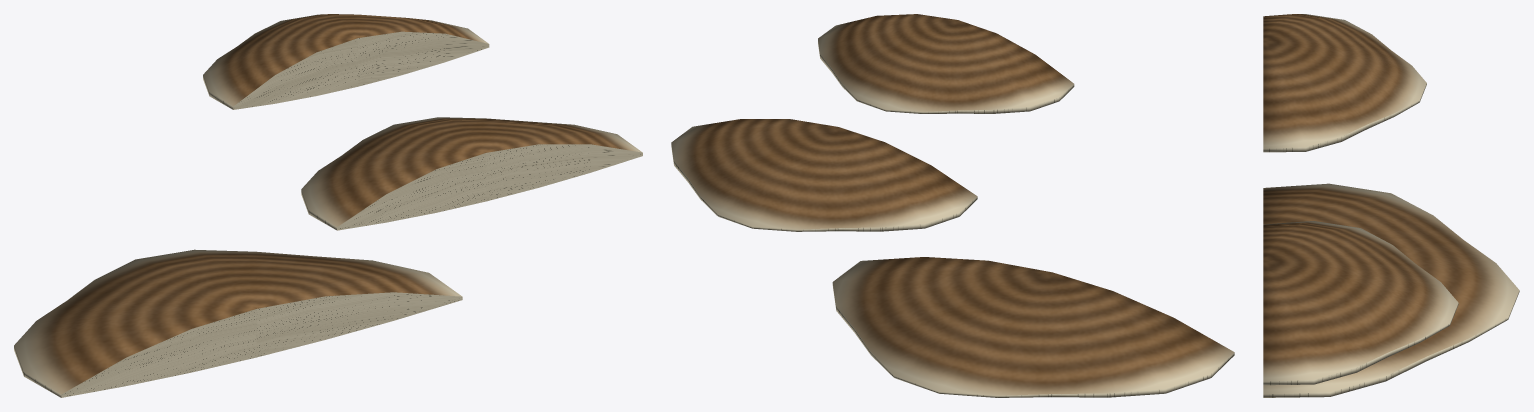
File: Deadwood_Bracket_Cluster_01_LOD2.fbx
3 renders of one model, left to right at view 1: azimuth 30°, elevation 25°; view 2: azimuth 150°, elevation 25°; view 3: azimuth 270°, elevation 25°, orthographic. The views are drawn at different scales.
Parts seen in each view (by area): view 1: Deadwood_Bracket_Cluster_01_LOD2_Mesh; view 2: Deadwood_Bracket_Cluster_01_LOD2_Mesh; view 3: Deadwood_Bracket_Cluster_01_LOD2_Mesh.
Boxes of the visible parts, x1,y1,x2,y2 form: Deadwood_Bracket_Cluster_01_LOD2_Mesh: (14, 14, 642, 397); Deadwood_Bracket_Cluster_01_LOD2_Mesh: (671, 14, 1234, 397); Deadwood_Bracket_Cluster_01_LOD2_Mesh: (1263, 14, 1519, 397).
Bounding box in the file's own units: 30.76 × 14.73 × 11.01.
Materials: 2 (2 with a texture image).
